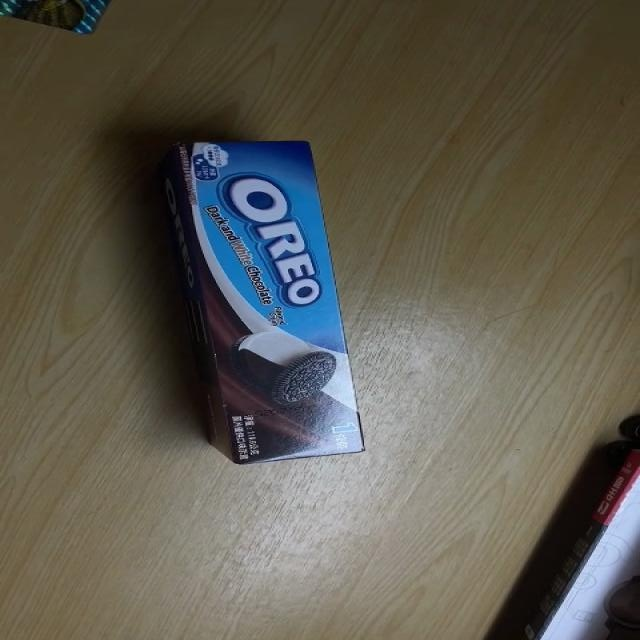Oreo: (134, 140, 369, 467)
